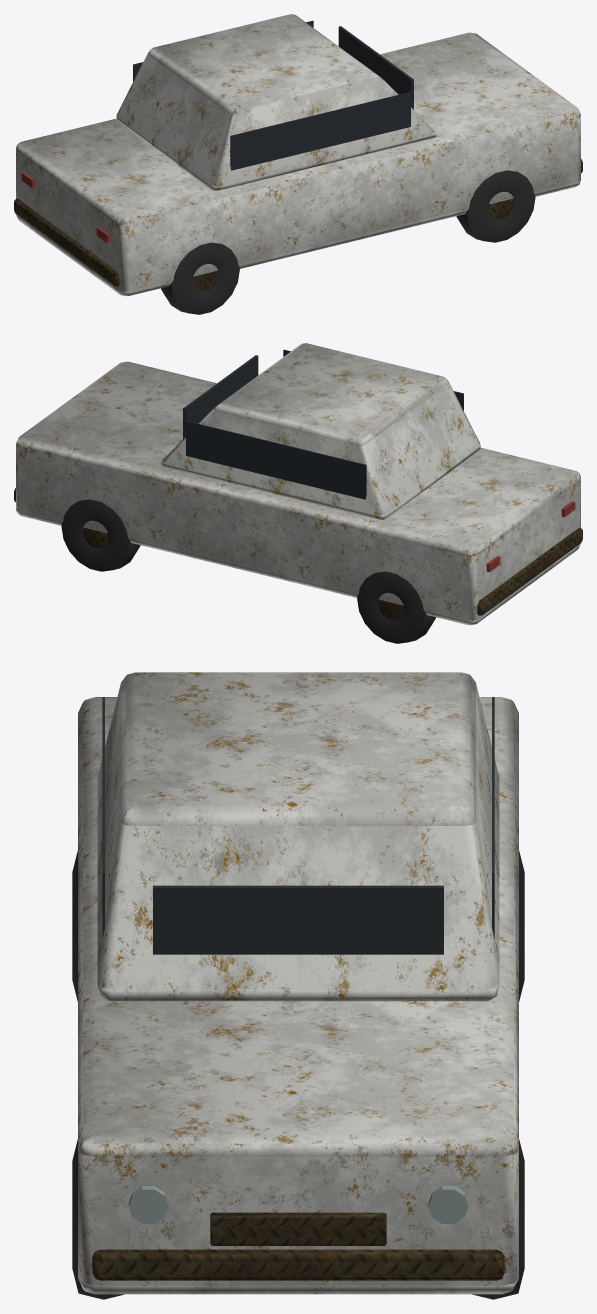
File: veh_sedan_small.gltf
3 renders of one model, top to bottom at view 1: azimuth 30°, elevation 25°; view 2: azimuth 150°, elevation 25°; view 3: azimuth 270°, elevation 25°, orthographic. The views are drawn at different scales.
Parts seen in each view (by area): view 1: box, box.002, box.003, torus.002, torus, box.001, box.005; view 2: box, box.002, box.004, torus.003, torus.001, box.001, box.005; view 3: box, box.002, box.005, box.001, box.006, cyl.004, cyl.005, torus, torus.001, torus.002, torus.003.
Boxes of the visible parts, box(x1,y1,x2,y2) form: box: box(16, 32, 580, 296); box.002: box(116, 14, 436, 190); box.003: box(230, 92, 410, 170); torus.002: box(161, 242, 239, 314); torus: box(456, 170, 535, 242); box.001: box(14, 159, 582, 286); box.005: box(338, 26, 413, 109); box: box(16, 361, 580, 625); box.002: box(160, 343, 480, 519); box.004: box(186, 421, 366, 499); torus.003: box(357, 571, 435, 643); torus.001: box(61, 499, 140, 571); box.001: box(14, 488, 582, 615); box.005: box(183, 355, 258, 438); box: box(78, 697, 518, 1294); box.002: box(97, 672, 499, 1001); box.005: box(153, 885, 443, 954); box.001: box(92, 1249, 504, 1280); box.006: box(210, 1212, 386, 1245); cyl.004: box(128, 1186, 168, 1223); cyl.005: box(428, 1186, 468, 1223); torus: box(72, 1139, 124, 1299); torus.001: box(472, 1139, 524, 1299); torus.002: box(72, 850, 77, 1001); torus.003: box(519, 850, 524, 1001).
Bounding box in the file's own units: 3.82 × 1.46 × 1.59.
Materials: 6 (3 with a texture image).
